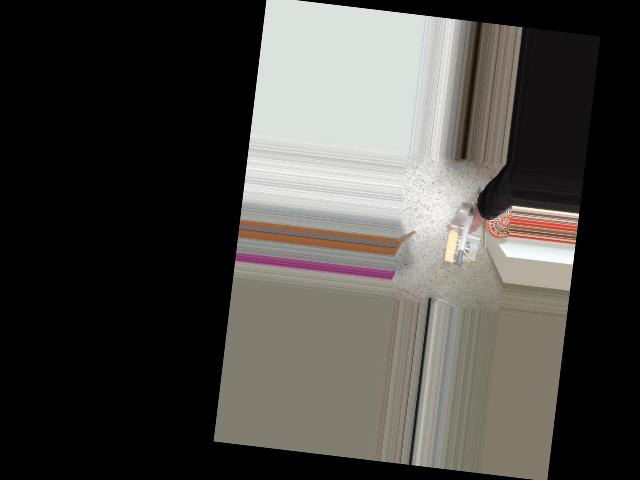cheese: (426, 211, 506, 271)
